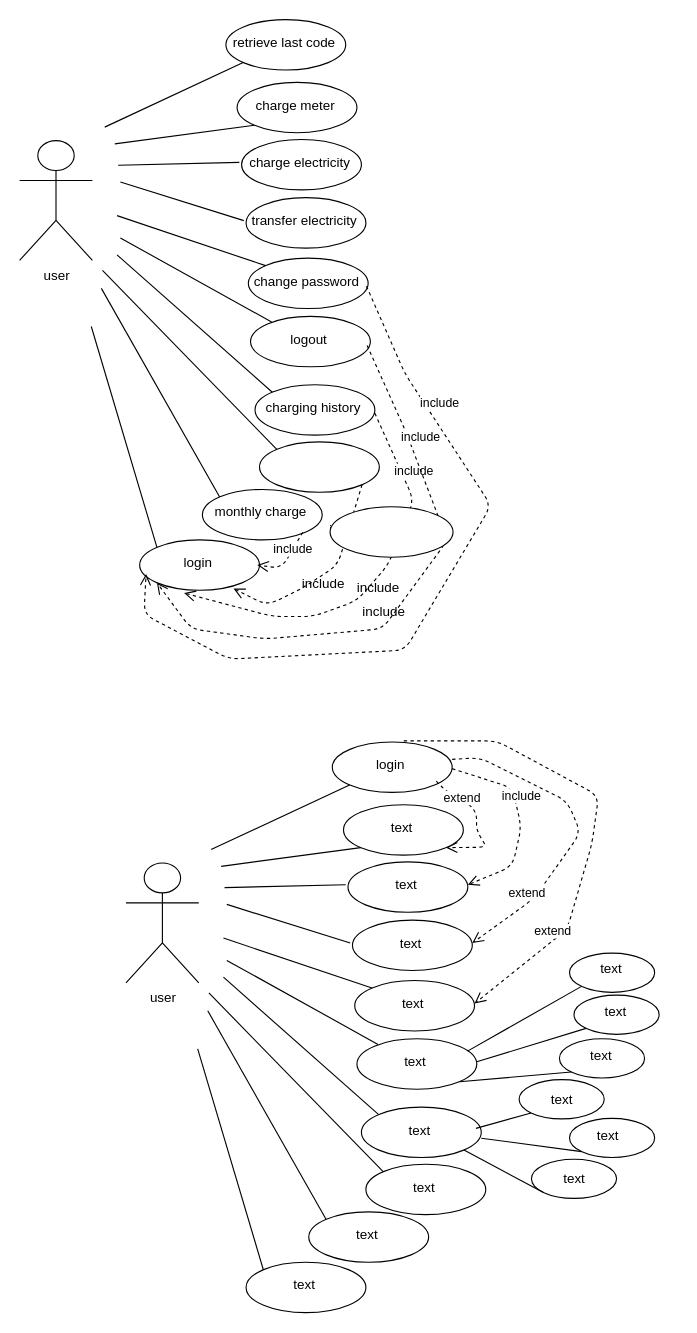
This 697x1333 diagram has some shape labels left out. Each missing label, with the box of its shape:
Inquiries: (329, 506, 453, 557)
transfering history: (258, 441, 379, 492)
